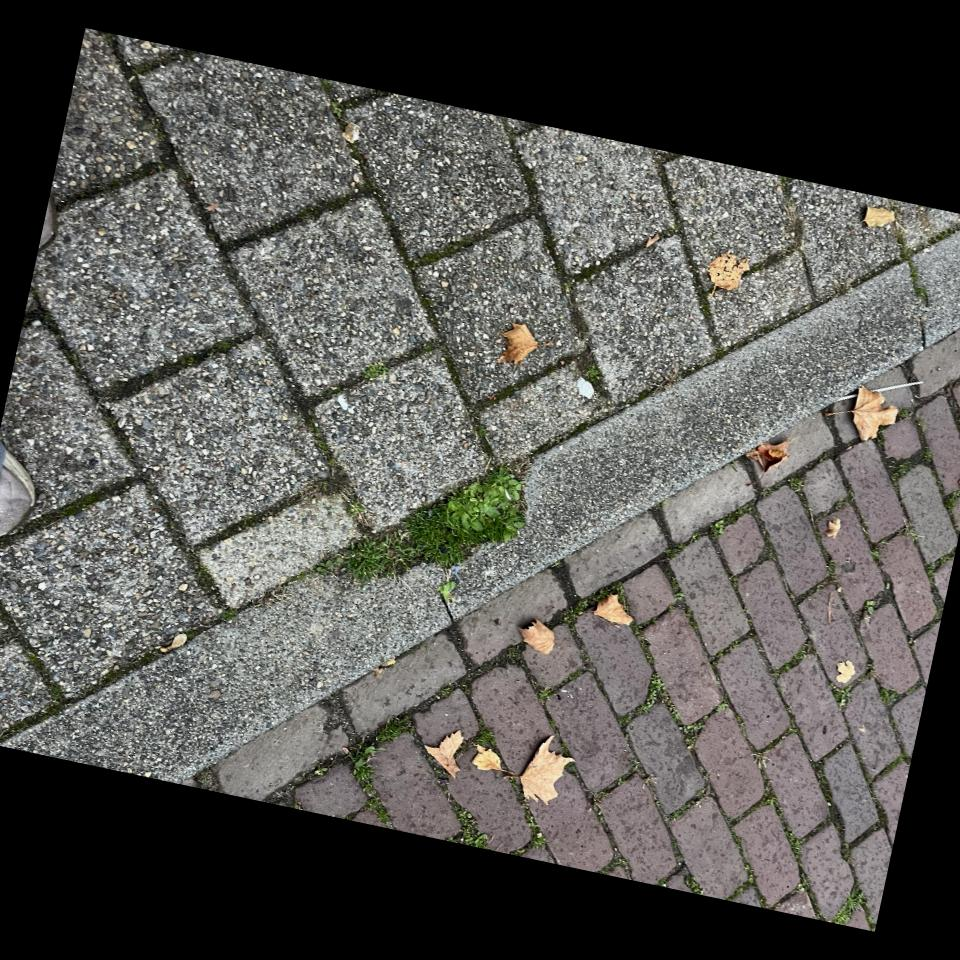weed: (324, 468, 525, 581), (347, 715, 415, 829), (661, 689, 707, 795), (708, 502, 755, 537), (454, 806, 488, 849), (775, 642, 814, 676), (832, 886, 864, 925), (637, 674, 665, 714), (530, 817, 544, 847), (476, 728, 495, 747)
